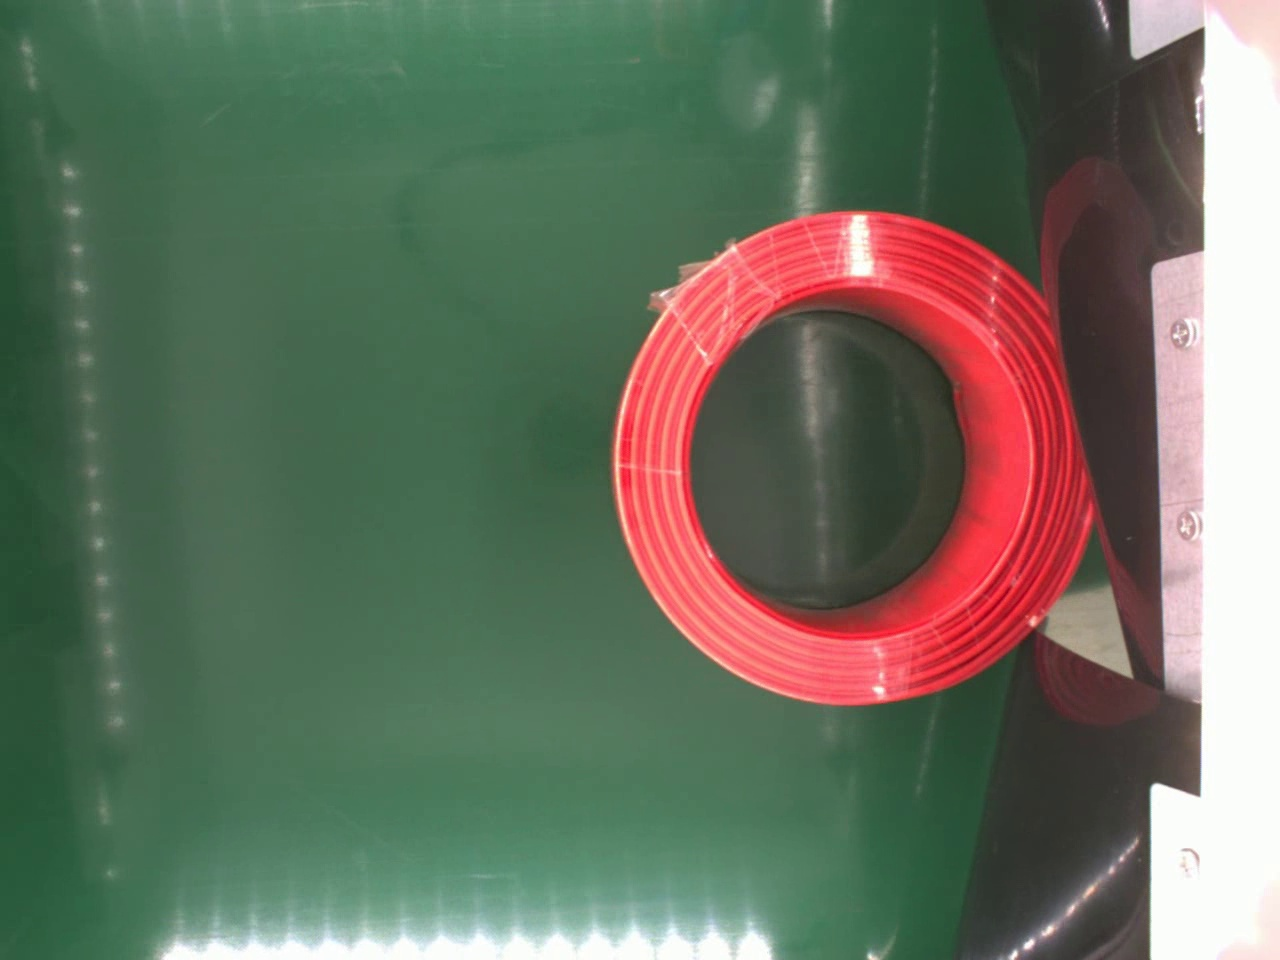red: (618, 202, 1094, 705)
